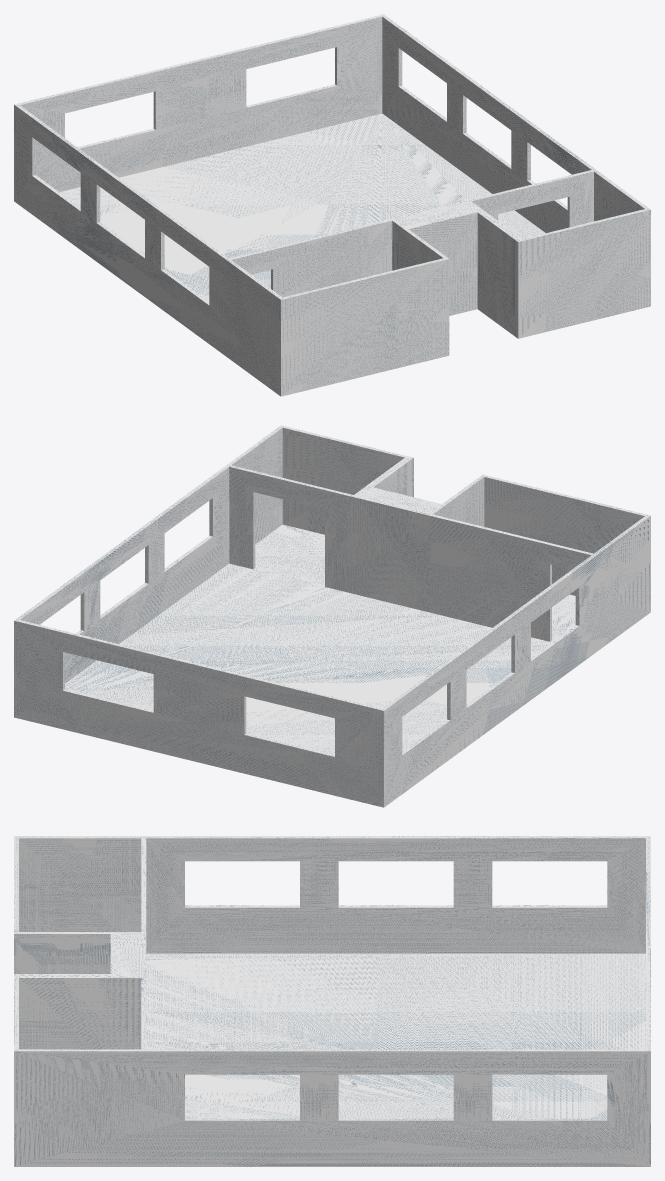
File: Laboratorio.fbx
3 views of the same model, one above another, from view 1: azimuth 30°, elevation 25°; view 2: azimuth 150°, elevation 25°; view 3: azimuth 270°, elevation 25° (orthographic). The views are drawn at different scales.
Parts seen in each view (by area): view 1: Model; view 2: Model; view 3: Model.
Boxes of the visible parts, <box> form: Model: <box>14,14,650,396</box>; Model: <box>14,425,650,807</box>; Model: <box>14,836,650,1166</box>.
Bounding box in the file's own units: 10 × 2.5 × 12.5.
